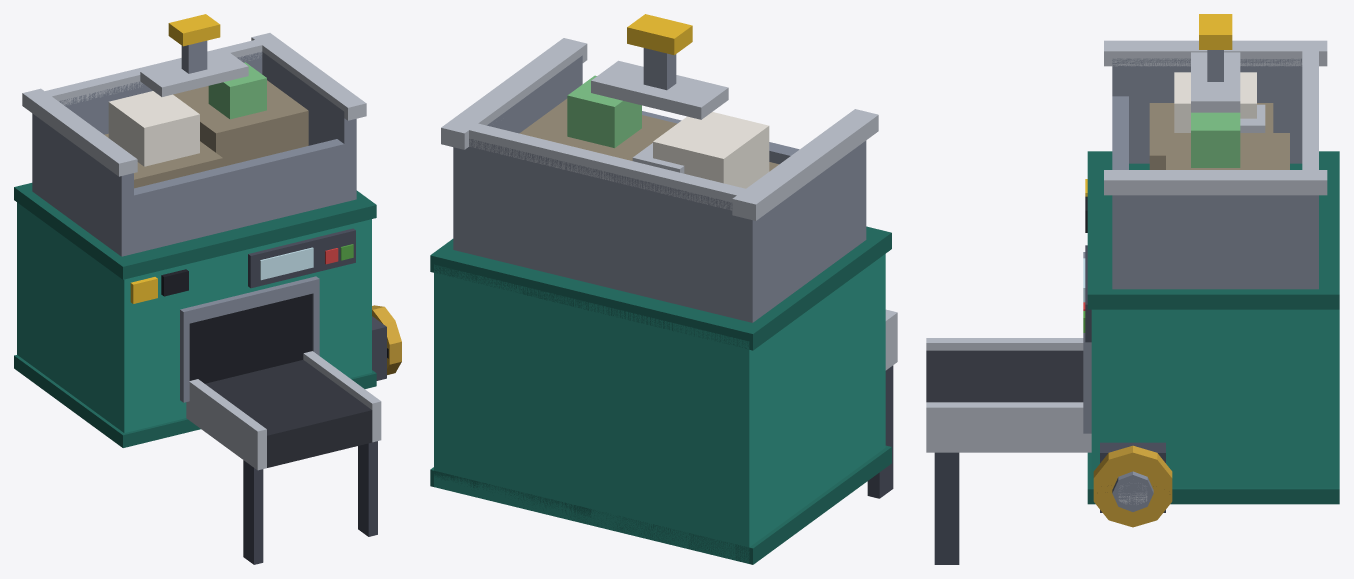
The model's file is intake.glb.
The picture shows the model from 3 angles, left to right: view 1: azimuth 30°, elevation 25°; view 2: azimuth 150°, elevation 25°; view 3: azimuth 270°, elevation 25°; orthographic projection. The views are drawn at different scales.
Parts seen in each view (by area): view 1: intake, slide-up, spin-x; view 2: intake, slide-up; view 3: intake, spin-x, slide-up.
Boxes of the visible parts, left/top/right/bottom form: intake: left=14, top=33, right=386, bottom=564; slide-up: left=140, top=14, right=248, bottom=96; spin-x: left=372, top=305, right=401, bottom=374; intake: left=430, top=38, right=897, bottom=564; slide-up: left=591, top=14, right=728, bottom=119; intake: left=926, top=40, right=1339, bottom=564; spin-x: left=1093, top=445, right=1172, bottom=527; slide-up: left=1191, top=14, right=1240, bottom=112.
Bounding box in the file's own units: 0.93 × 1.35 × 1.
3 materials, 3 textured.
